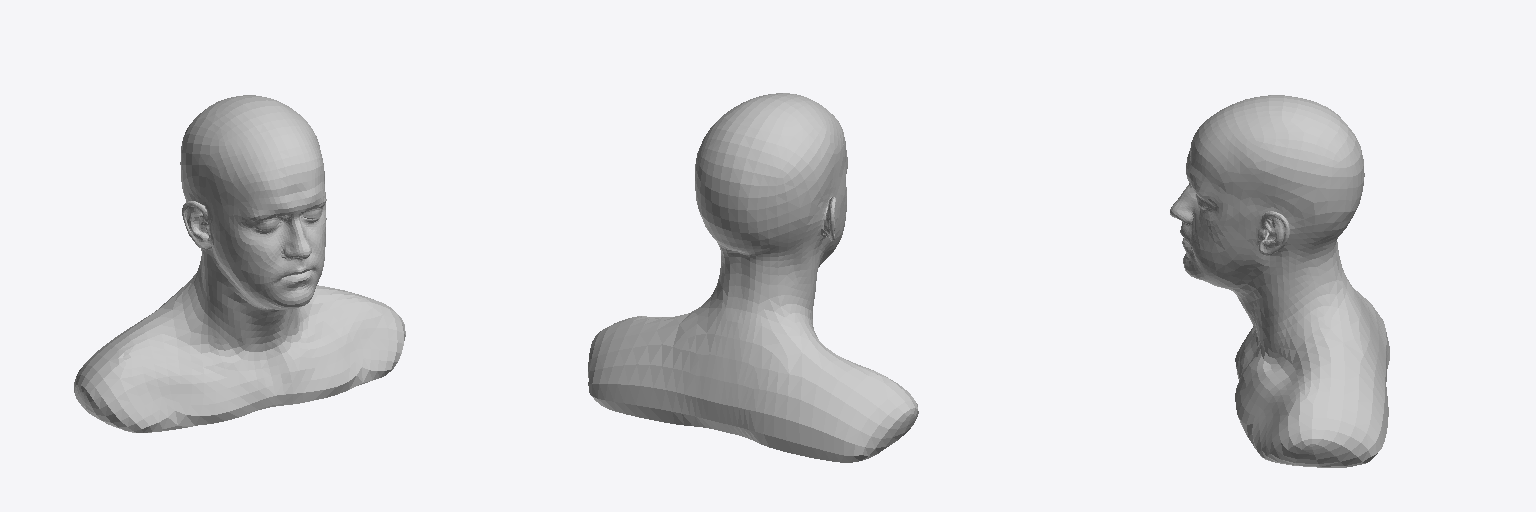
The model's file is head.OBJ.
3 views of the same model, side by side, from view 1: azimuth 30°, elevation 25°; view 2: azimuth 150°, elevation 25°; view 3: azimuth 270°, elevation 25° (orthographic).
Visible parts, largest first — view 1: Group2, Group19, Group14, Group4, Group5; view 2: Group2, Group4, Group19, Group5; view 3: Group2, Group19, Group14, Group4, Group5.
Boxes of the visible parts, box(x1,y1,x2,y2) form: Group2: box(76, 95, 403, 432); Group19: box(205, 144, 326, 277); Group14: box(214, 236, 325, 309); Group4: box(74, 315, 405, 432); Group5: box(182, 194, 213, 249); Group2: box(588, 93, 914, 455); Group4: box(588, 331, 918, 462); Group19: box(829, 112, 847, 218); Group5: box(817, 187, 835, 240); Group2: box(1210, 95, 1389, 459); Group19: box(1170, 116, 1266, 244); Group14: box(1182, 226, 1264, 288); Group4: box(1265, 429, 1377, 467); Group5: box(1254, 203, 1296, 255).
Size of the model in its own units: 0.4533 by 0.4211 by 0.2746.